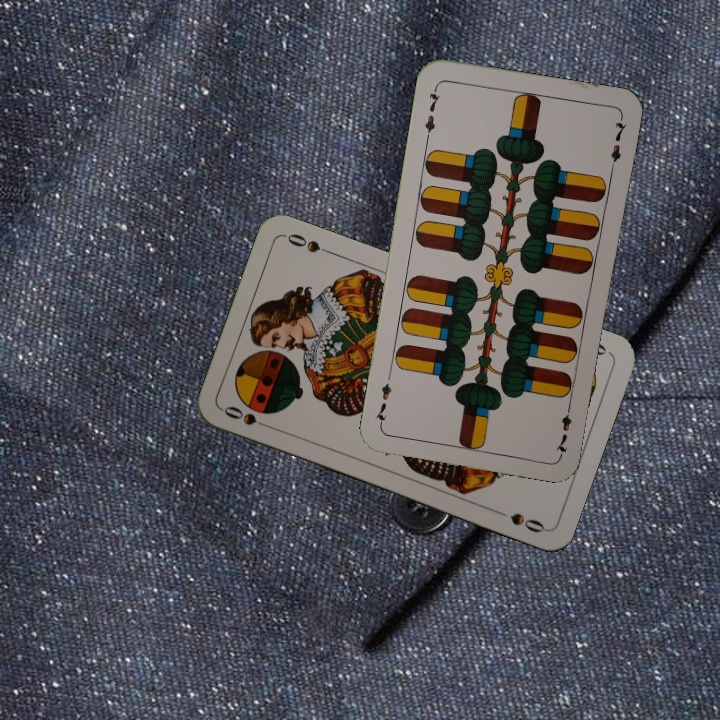E7: (551, 398, 574, 457), (421, 82, 443, 141)
SO: (219, 402, 276, 433)
